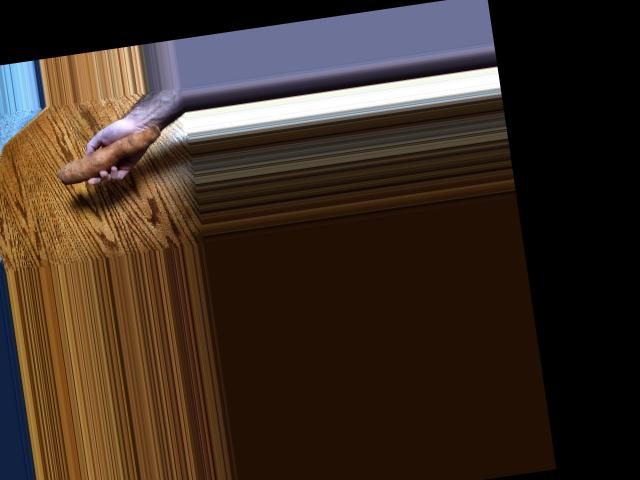sweet_potato: (37, 132, 154, 194)
